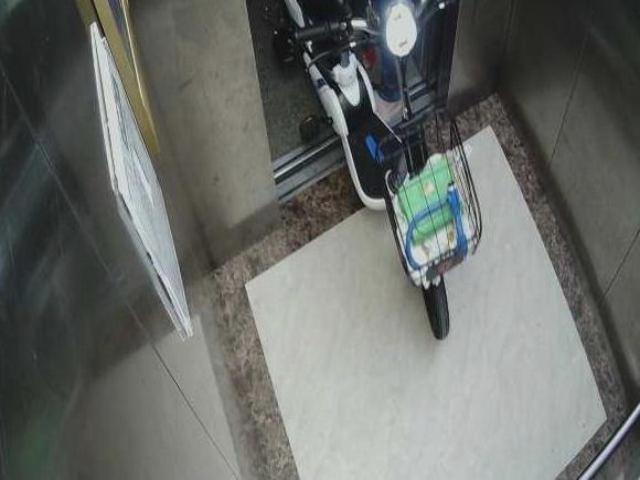emotor: (284, 7, 497, 350)
